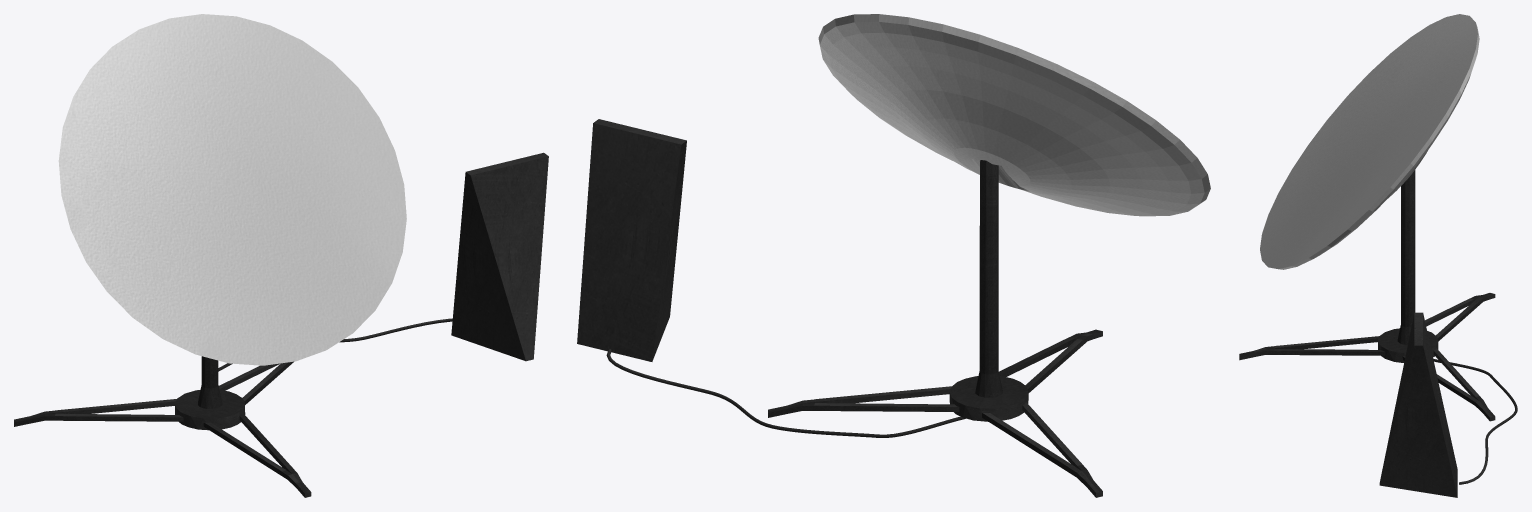
Rendered from Roof_Deco_003.fbx.
The picture shows the model from 3 angles, left to right: view 1: azimuth 30°, elevation 25°; view 2: azimuth 150°, elevation 25°; view 3: azimuth 270°, elevation 25°; orthographic projection. The views are drawn at different scales.
Visible parts, largest first — view 1: Roof_Deco_003; view 2: Roof_Deco_003; view 3: Roof_Deco_003.
Part boxes in pixels (x1,y1,x2,y2): Roof_Deco_003: (14, 14, 548, 497); Roof_Deco_003: (577, 14, 1210, 497); Roof_Deco_003: (1239, 14, 1517, 497).
Size of the model in its own units: 189 by 135 by 105.
Materials: 1 (1 with a texture image).
